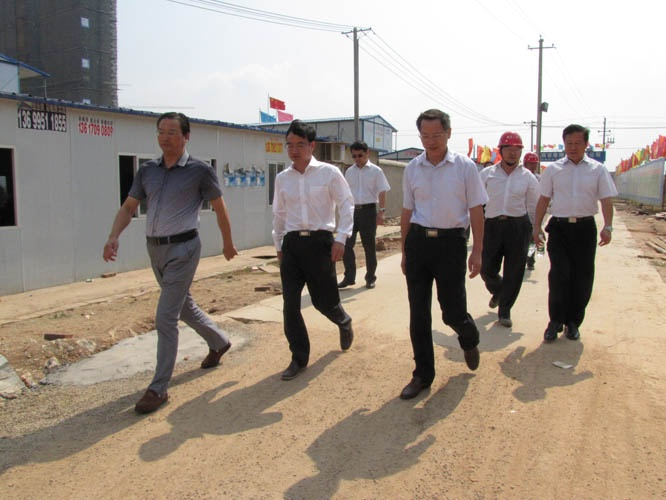none: (279, 116, 317, 167), (417, 108, 451, 156), (154, 111, 191, 154), (561, 124, 590, 159), (348, 141, 369, 166)
red: (496, 130, 523, 166), (523, 151, 539, 173)
